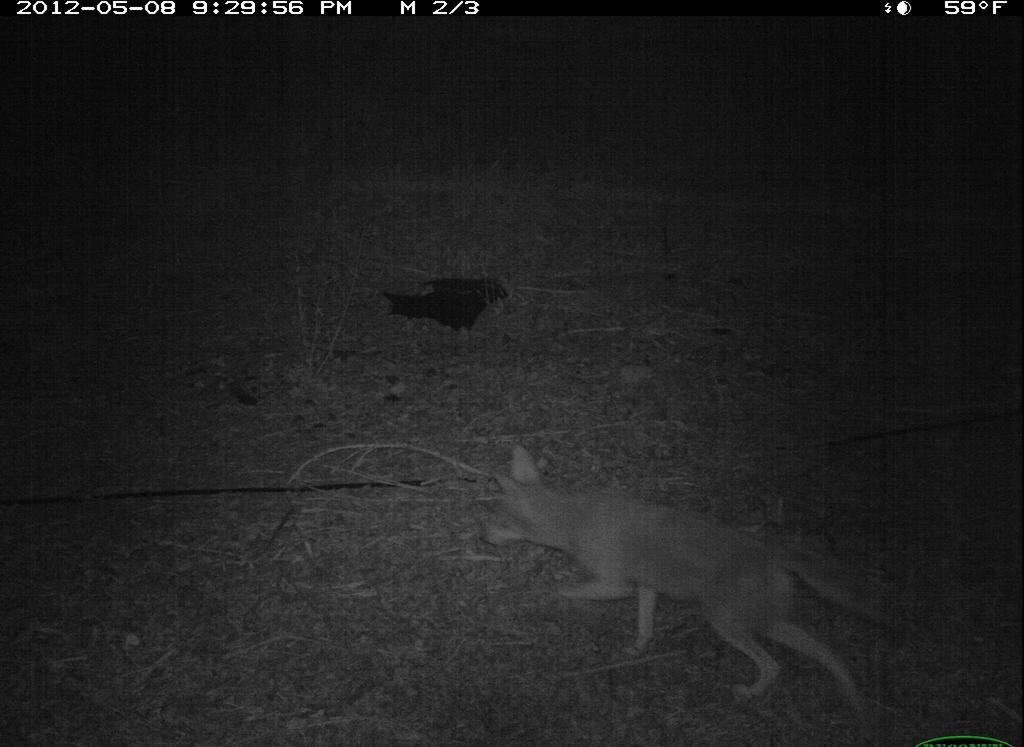coyote: (477, 441, 894, 722)
